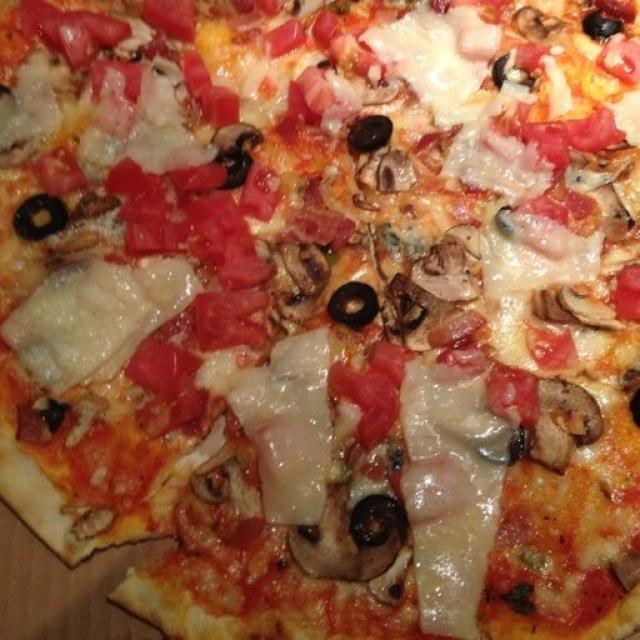Cheese: (413, 380, 496, 628), (252, 347, 326, 517), (47, 268, 131, 398), (394, 29, 480, 93), (493, 239, 591, 268)
Mushrooms: (287, 494, 393, 580), (527, 376, 610, 468), (268, 247, 330, 324), (561, 162, 640, 218), (413, 238, 485, 299), (529, 289, 616, 328), (66, 193, 117, 252), (387, 281, 434, 331), (69, 394, 107, 449), (62, 504, 116, 540), (513, 6, 561, 43), (376, 154, 418, 190), (191, 466, 231, 502)
Olives: (16, 195, 64, 242), (330, 282, 379, 325), (354, 497, 394, 549), (210, 147, 256, 190), (350, 116, 392, 149), (585, 11, 616, 35), (626, 392, 640, 428)
Tomato: (106, 168, 277, 277), (130, 297, 263, 392), (4, 0, 125, 59), (338, 346, 401, 436), (316, 9, 388, 80), (506, 114, 617, 156), (177, 56, 240, 125), (285, 71, 335, 123), (494, 367, 538, 420), (34, 151, 88, 192), (146, 0, 193, 41), (596, 42, 640, 81), (617, 272, 640, 318), (268, 23, 302, 54)
